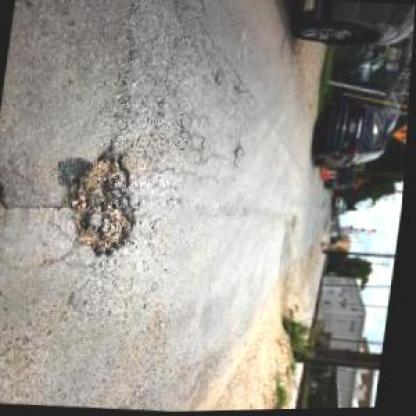pothole: (62, 147, 147, 261), (0, 169, 18, 211)
